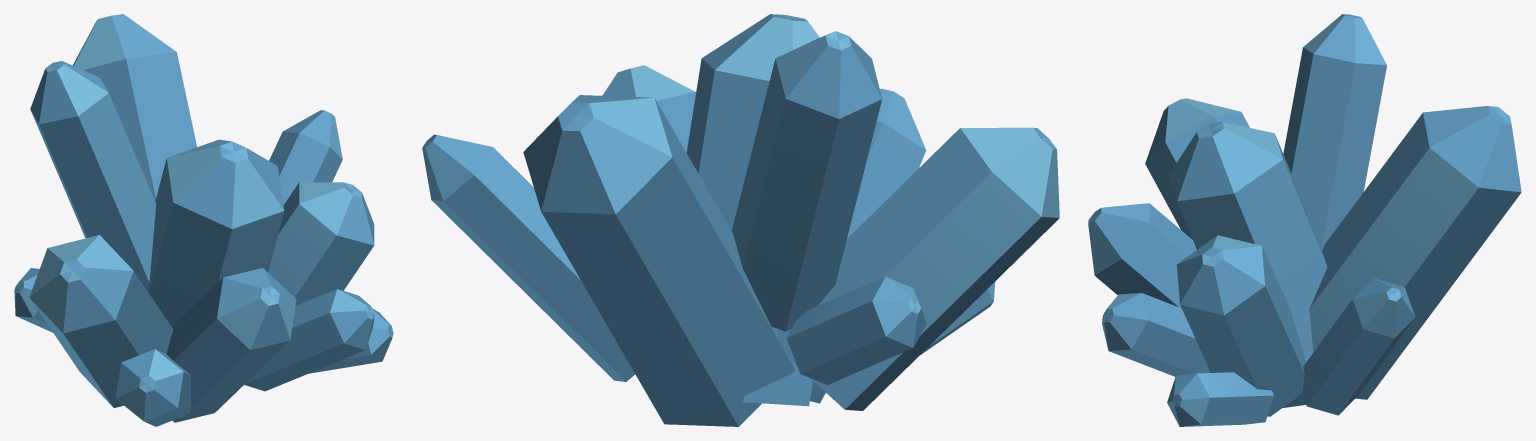
Rendered from geology-crystals-icecrystalcluster_v3.fbx.
3 views of the same model, side by side, from view 1: azimuth 30°, elevation 25°; view 2: azimuth 150°, elevation 25°; view 3: azimuth 270°, elevation 25° (orthographic). The views are drawn at different scales.
Parts seen in each view (by area): view 1: IceCrystalCluster_v3; view 2: IceCrystalCluster_v3; view 3: IceCrystalCluster_v3.
Part boxes in pixels (left/top/right/bottom): IceCrystalCluster_v3: left=14, top=14, right=393, bottom=426; IceCrystalCluster_v3: left=422, top=14, right=1059, bottom=426; IceCrystalCluster_v3: left=1088, top=14, right=1521, bottom=426.
Size of the model in its own units: 9.87 by 8.17 by 9.47.
